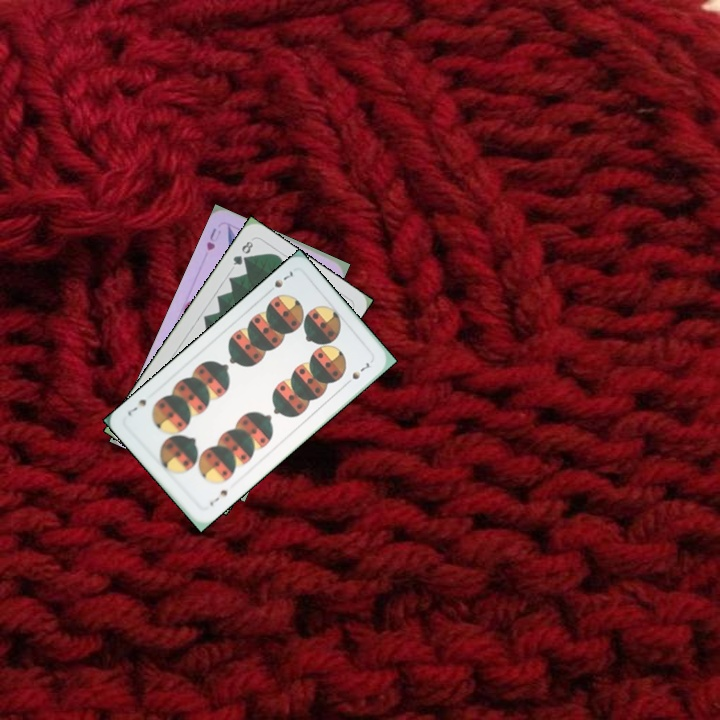G8: (229, 237, 256, 268)
HU: (202, 224, 224, 254)
S7: (205, 485, 230, 509), (270, 267, 296, 290)
